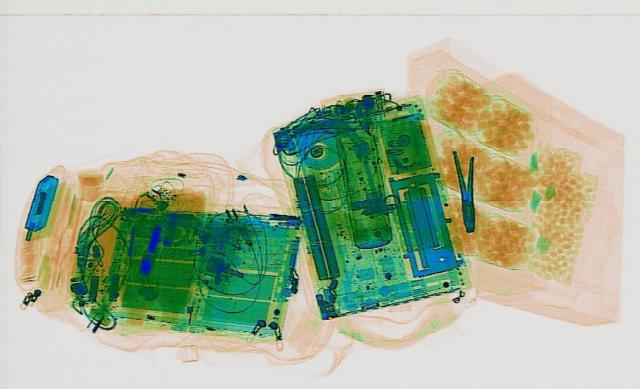Pliers: (450, 149, 482, 232)
